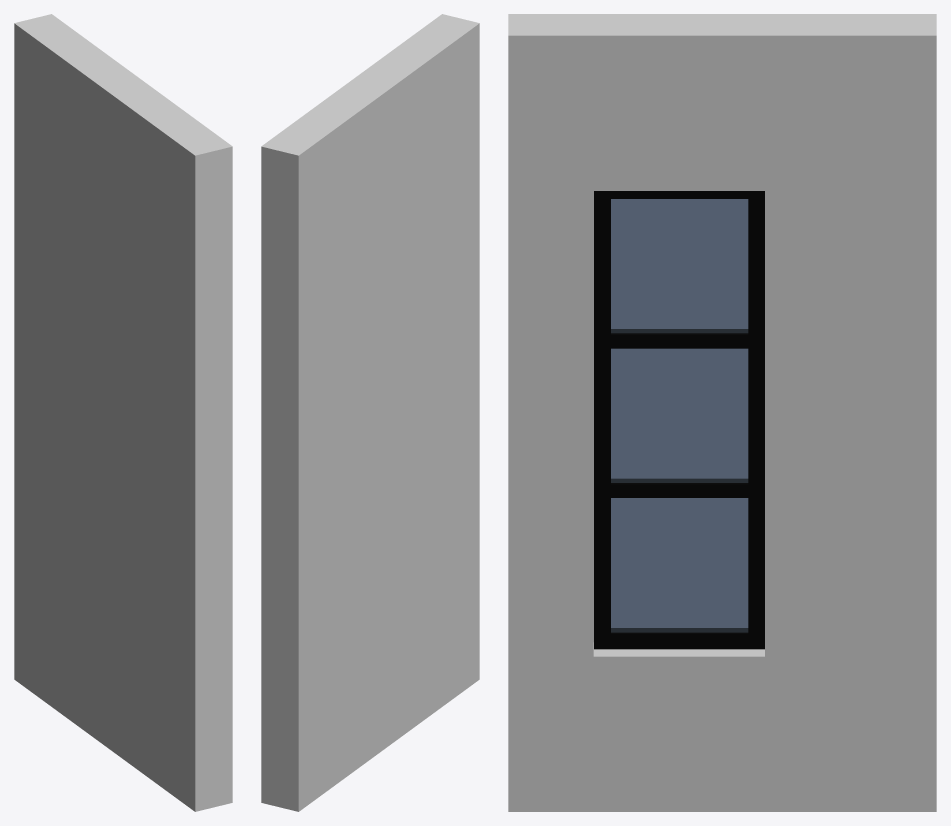
Rendered from house_wallwindow4.glb.
3 renders of one model, left to right at view 1: azimuth 30°, elevation 25°; view 2: azimuth 150°, elevation 25°; view 3: azimuth 270°, elevation 25°, orthographic. The views are drawn at different scales.
Visible parts, largest first — view 1: WallWindow4; view 2: WallWindow4; view 3: WallWindow4.
Part boxes in pixels (x1,y1,x2,y2): WallWindow4: [14, 14, 232, 811]; WallWindow4: [261, 14, 479, 811]; WallWindow4: [508, 14, 936, 811].
Size of the model in its own units: 30 by 500 by 250.
